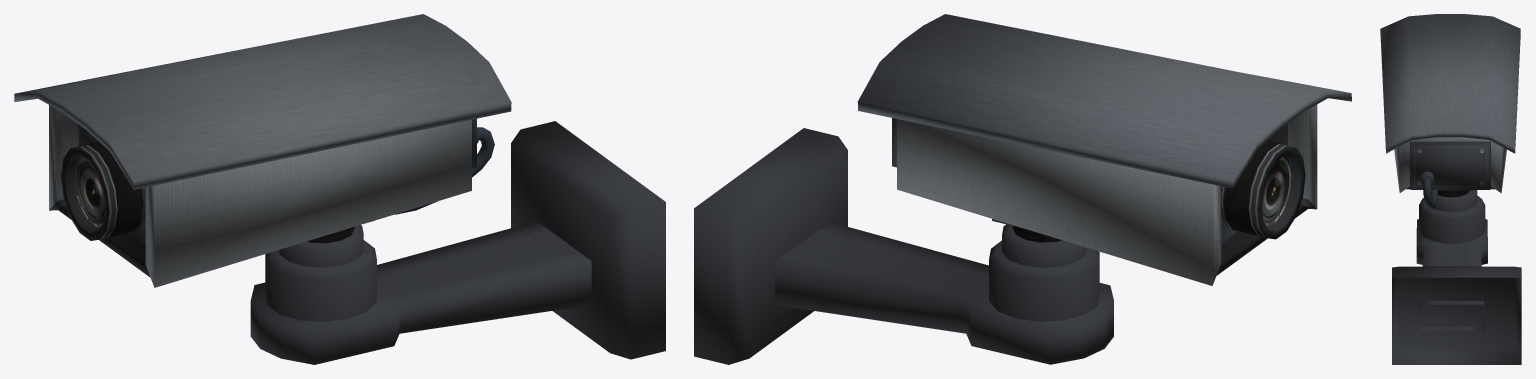
The model's file is FPH_SecurityCam.fbx.
3 renders of one model, left to right at view 1: azimuth 30°, elevation 25°; view 2: azimuth 150°, elevation 25°; view 3: azimuth 270°, elevation 25°, orthographic. The views are drawn at different scales.
Visible parts, largest first — view 1: FPH_SecurityCam, FPH_SecurityCamBase; view 2: FPH_SecurityCam, FPH_SecurityCamBase; view 3: FPH_SecurityCam, FPH_SecurityCamBase.
Boxes of the visible parts, box(x1,y1,x2,y2) form: FPH_SecurityCam: box(14, 14, 511, 287); FPH_SecurityCamBase: box(250, 121, 665, 364); FPH_SecurityCam: box(857, 14, 1351, 285); FPH_SecurityCamBase: box(694, 128, 1113, 364); FPH_SecurityCam: box(1380, 14, 1520, 209); FPH_SecurityCamBase: box(1392, 190, 1521, 364).
Size of the model in its own units: 1.63 by 0.9606 by 0.627.
Materials: 1 (1 with a texture image).
